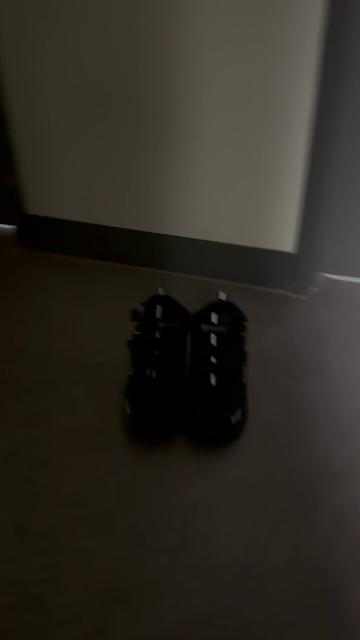shoe_worn: (124, 292, 190, 453), (187, 295, 247, 449)
